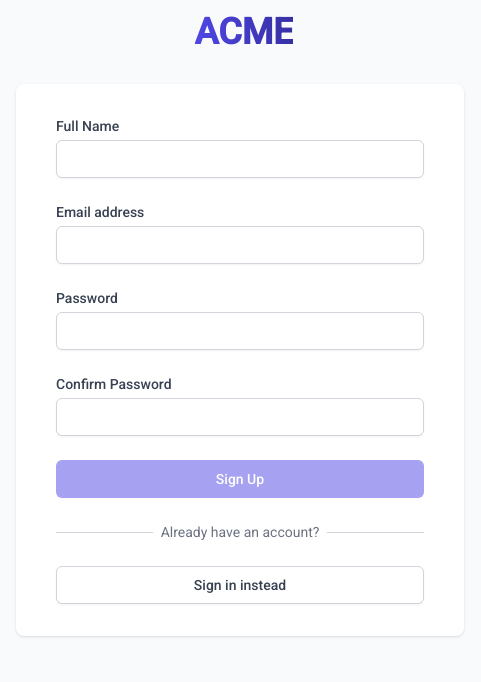
Test: Sign Up › Form Validation › should validate name length
Type "T" into the field named "name" at {"x": 240, "y": 159}, box [56,140,424,178]
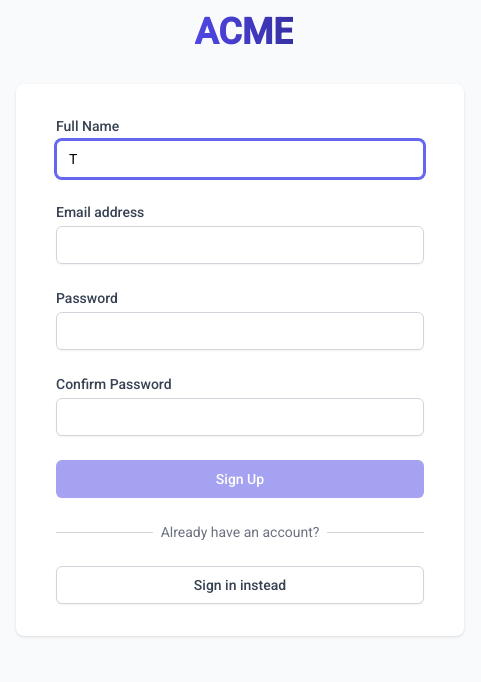
Leave the field named "name", box [56,140,424,178]
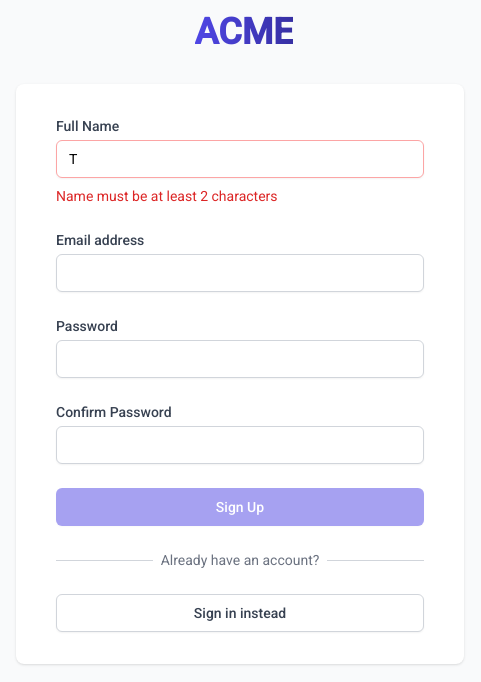
Check: the text "Name must be at least 2 characters" is shown, box [56,188,278,204]
